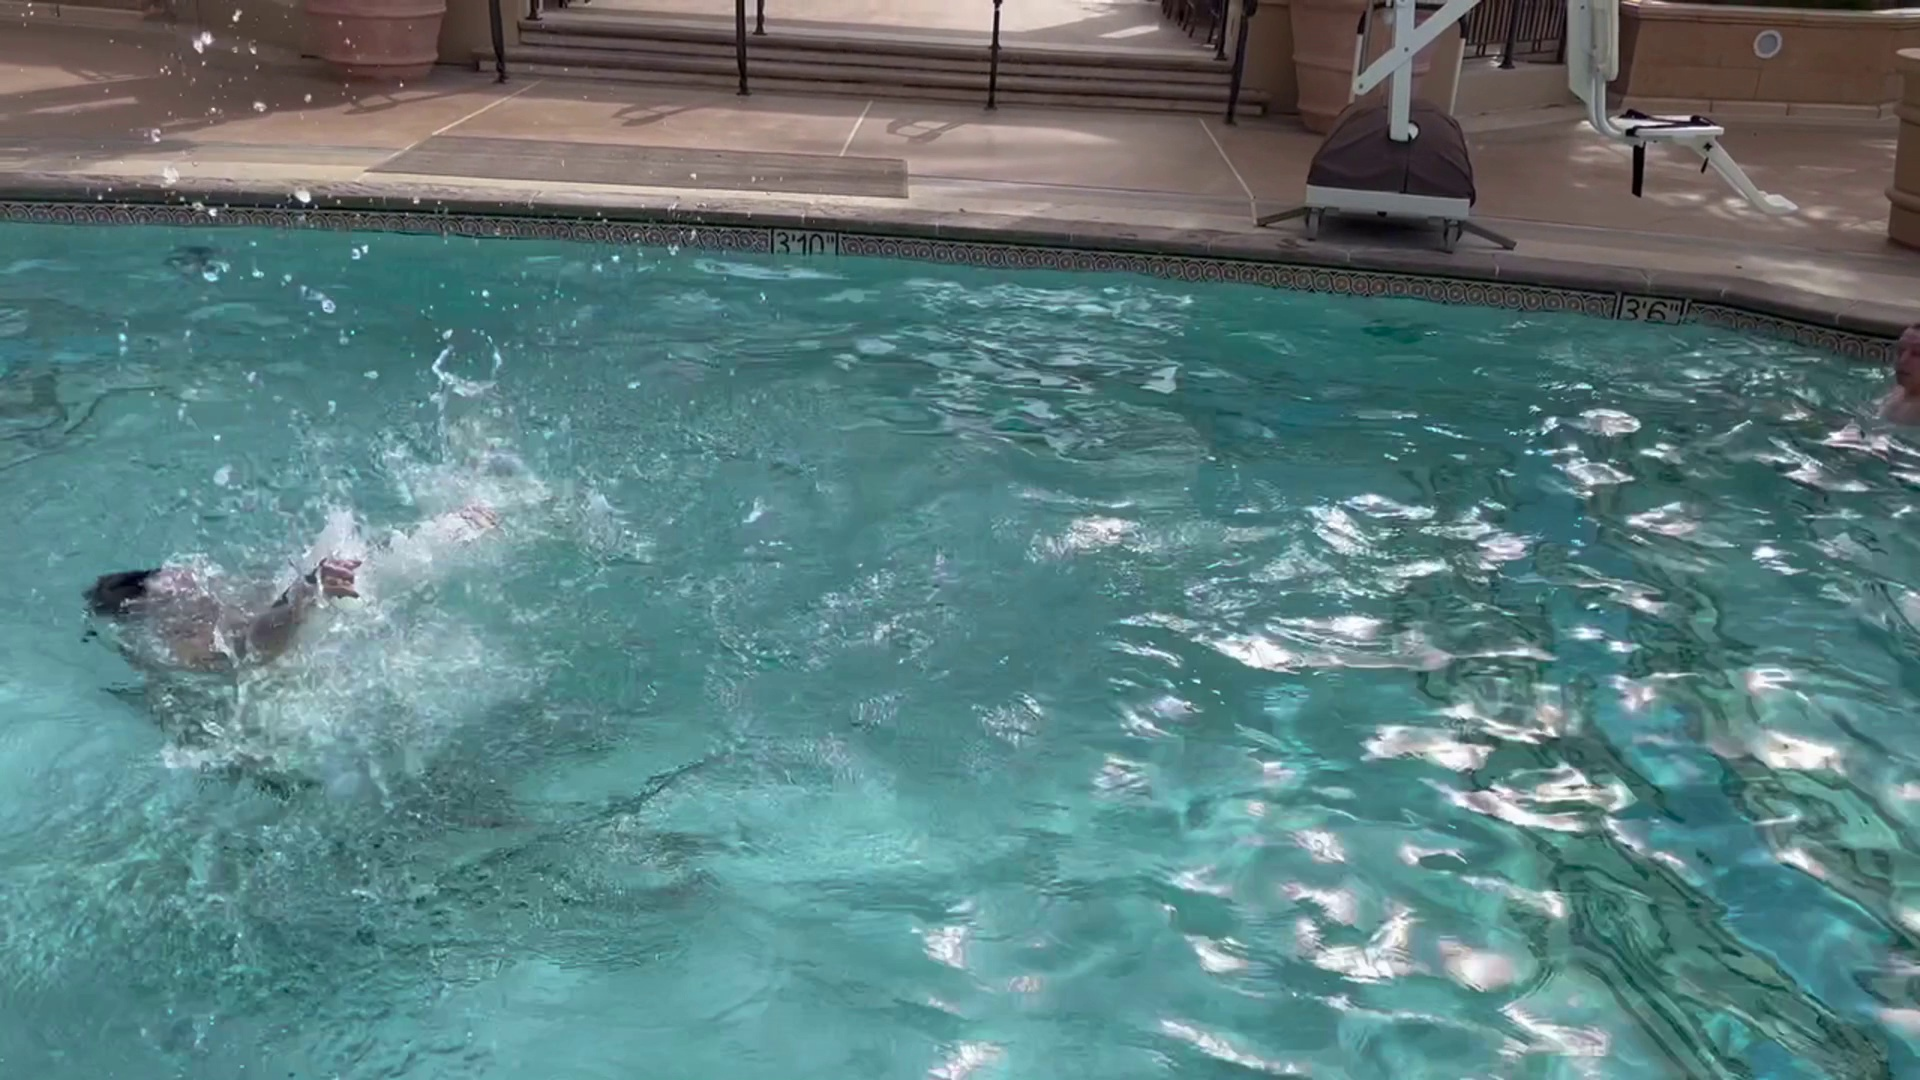danger: (57, 363, 618, 748)
